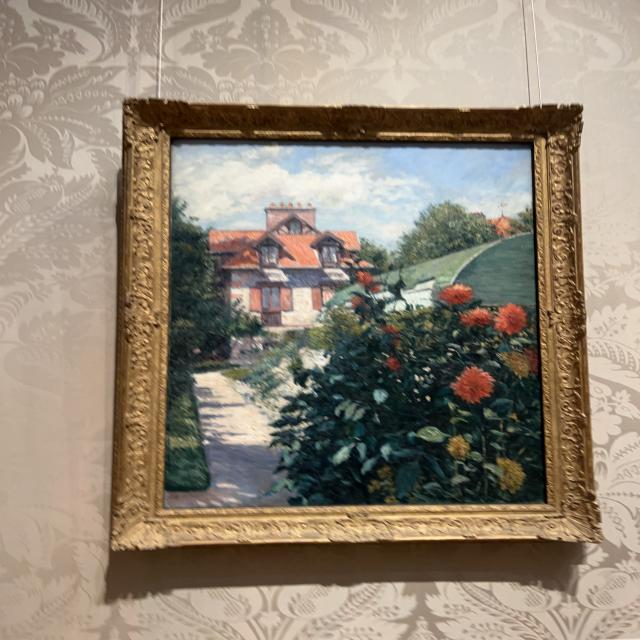summer: (171, 143, 540, 505)
